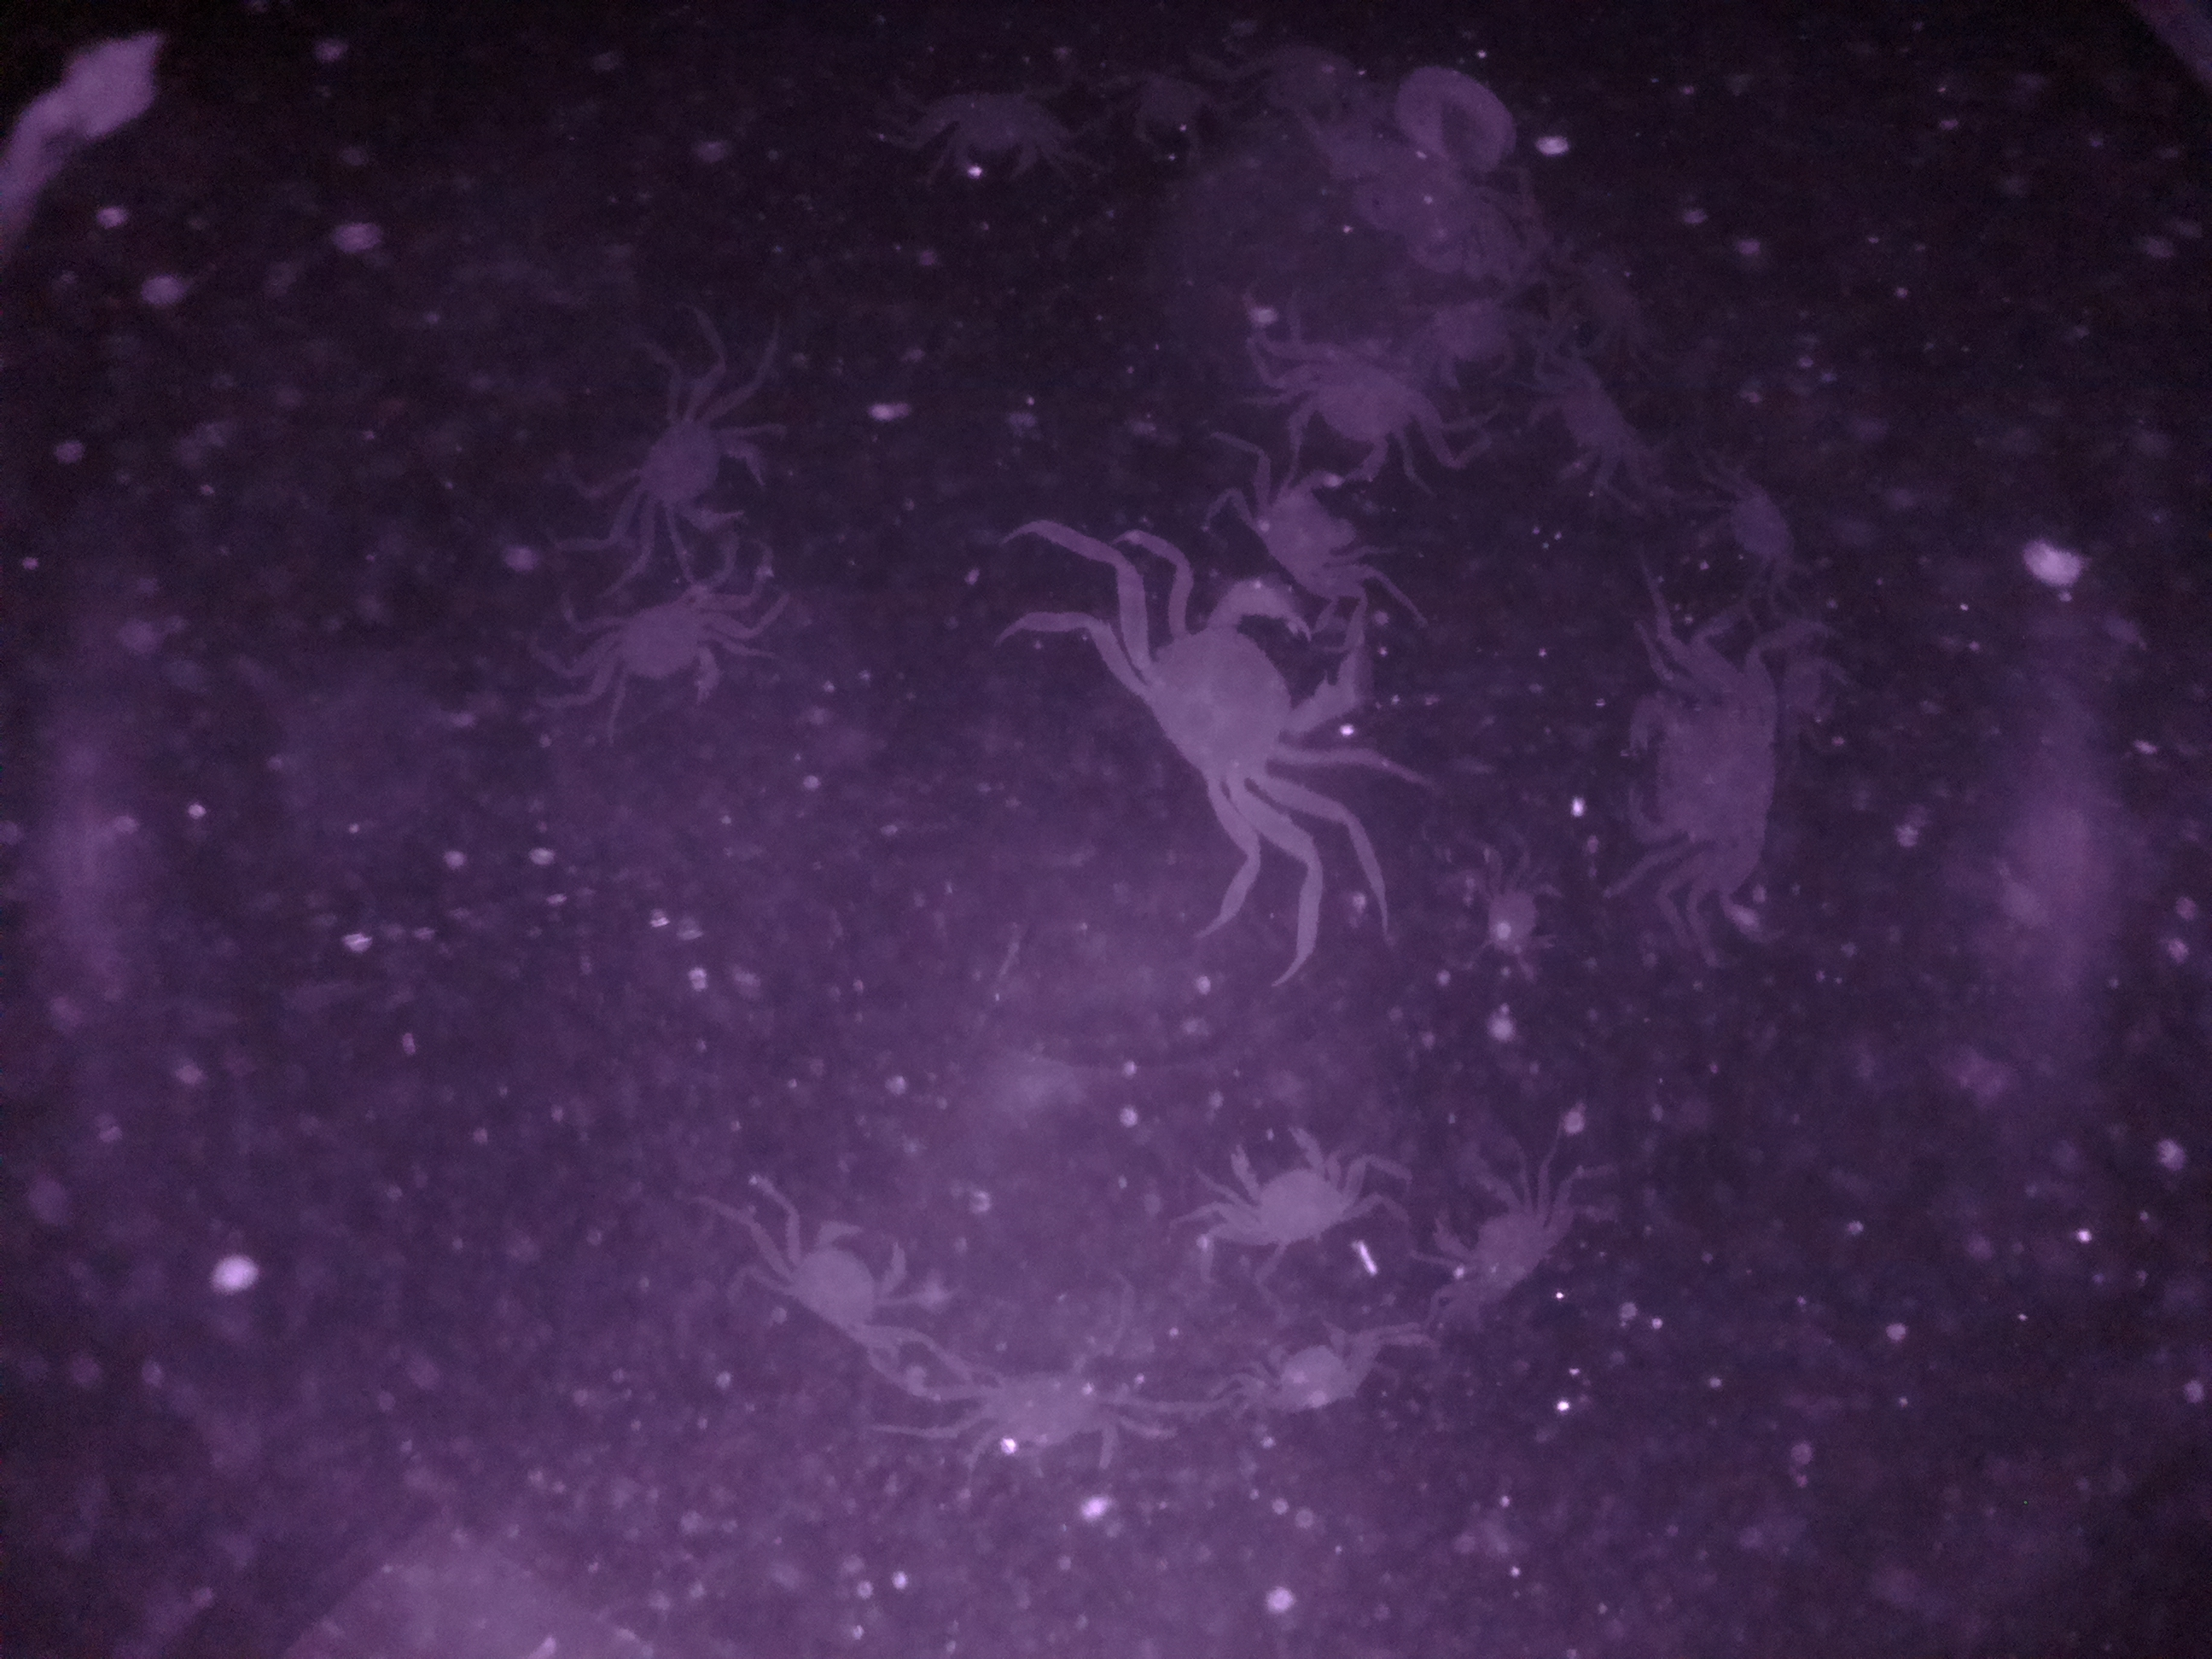Crab: (1104, 573, 1385, 850), (1590, 641, 1822, 896), (1256, 329, 1458, 507), (752, 1194, 932, 1368), (1414, 1154, 1587, 1330), (561, 580, 765, 727), (1198, 1105, 1376, 1272), (597, 392, 787, 542)
